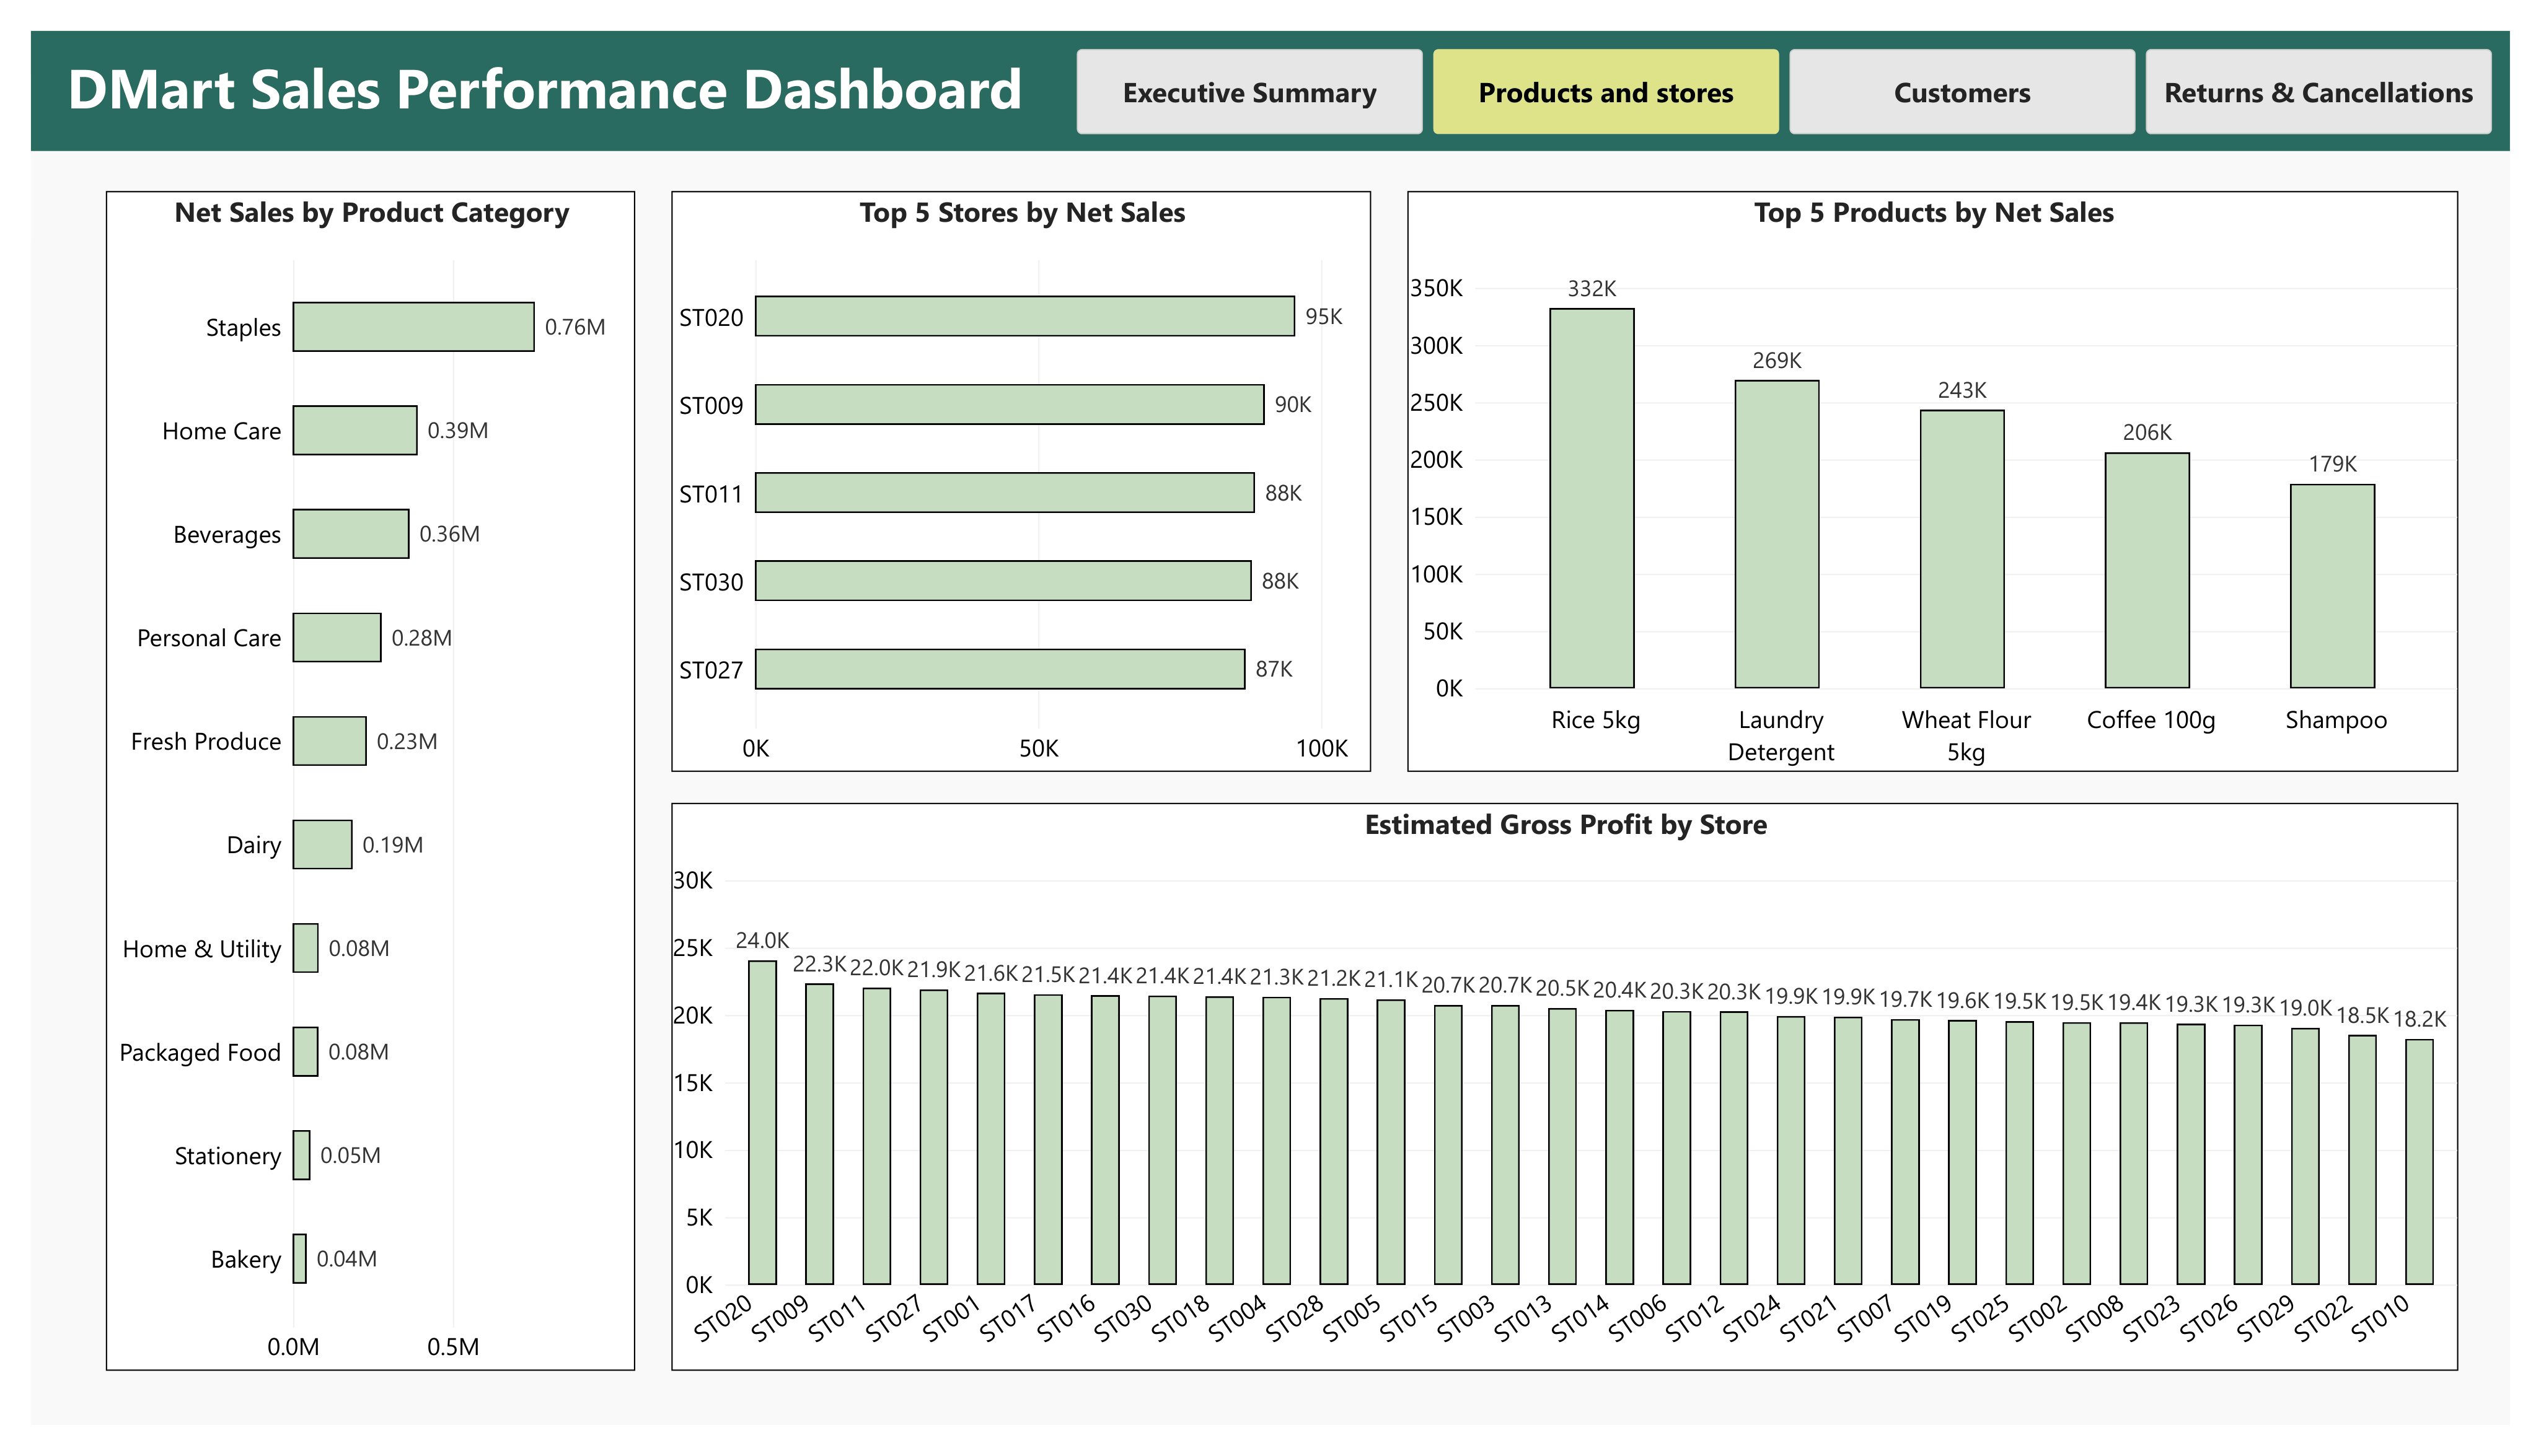

This screenshot's page, from the dashboard's own definition file:
{"tool":"powerbi","page":{"name":"Products and stores","canvas":[1920,1080],"ordinal":1},"visuals":[{"type":"shape","box":[0,0,1920.4,92.8],"z":0},{"type":"clusteredBarChart","title":"Net Sales by Product Category","fields":{"Category":["products_clean.Category"],"Y":["Measures_Created.Net_Sales"]},"box":[57.6,124.4,410.4,913.8],"z":1000},{"type":"clusteredBarChart","title":"Top 5 Stores by Net Sales","fields":{"Category":["transactions_clean.Store_ID"],"Y":["Measures_Created.Net_Sales"]},"box":[495.9,124.4,542.3,449.4],"z":2000},{"type":"clusteredColumnChart","title":"Top 5 Products by Net Sales","fields":{"Category":["products_clean.Product_Name"],"Y":["Measures_Created.Net_Sales"]},"box":[1066.1,124.4,813.5,449.4],"z":5000},{"type":"clusteredColumnChart","title":"Estimated Gross Profit by Store","fields":{"Category":["transactions_clean.Store_ID"],"Y":["Measures_Created.Estimated_Gross_Profit"]},"box":[495.9,598,1383.6,440.2],"z":6000},{"type":"pageNavigator","box":[810,14,1096,66],"z":6001},{"type":"textbox","box":[28,14,782,78],"z":6002}]}

Visuals, with their boxes on the page's 1920x1080 design canvas (x1, y1, x2, y2). These are canvas units, not pixel positions in the 2541x1456 screenshot, which may show the page scaled, cropped or inside an application window:
shape: 0, 0, 1920, 93
"Net Sales by Product Category" clusteredBarChart: 58, 124, 468, 1038
"Top 5 Stores by Net Sales" clusteredBarChart: 496, 124, 1038, 574
"Top 5 Products by Net Sales" clusteredColumnChart: 1066, 124, 1880, 574
"Estimated Gross Profit by Store" clusteredColumnChart: 496, 598, 1880, 1038
pageNavigator: 810, 14, 1906, 80
textbox: 28, 14, 810, 92
